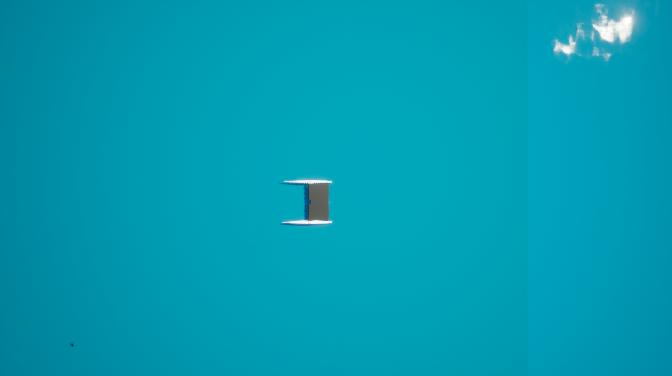boat: (282, 178, 334, 231)
drone: (68, 340, 76, 351)
land_base: (309, 183, 328, 221)
light_reflex: (539, 3, 657, 69)
